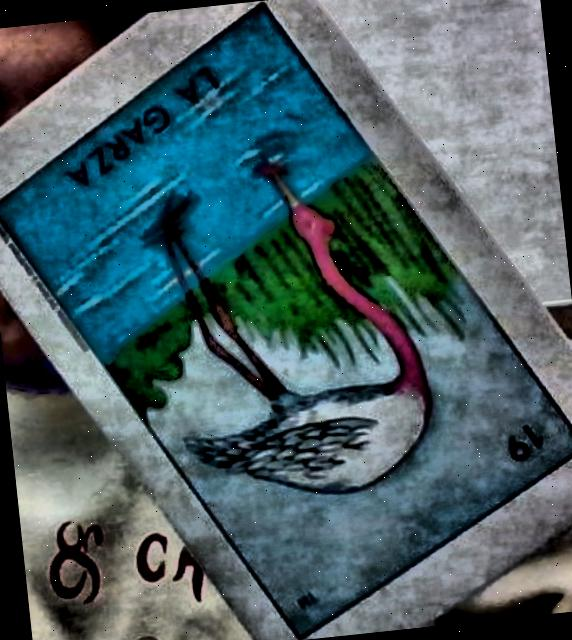El Garza: (0, 3, 572, 638)
